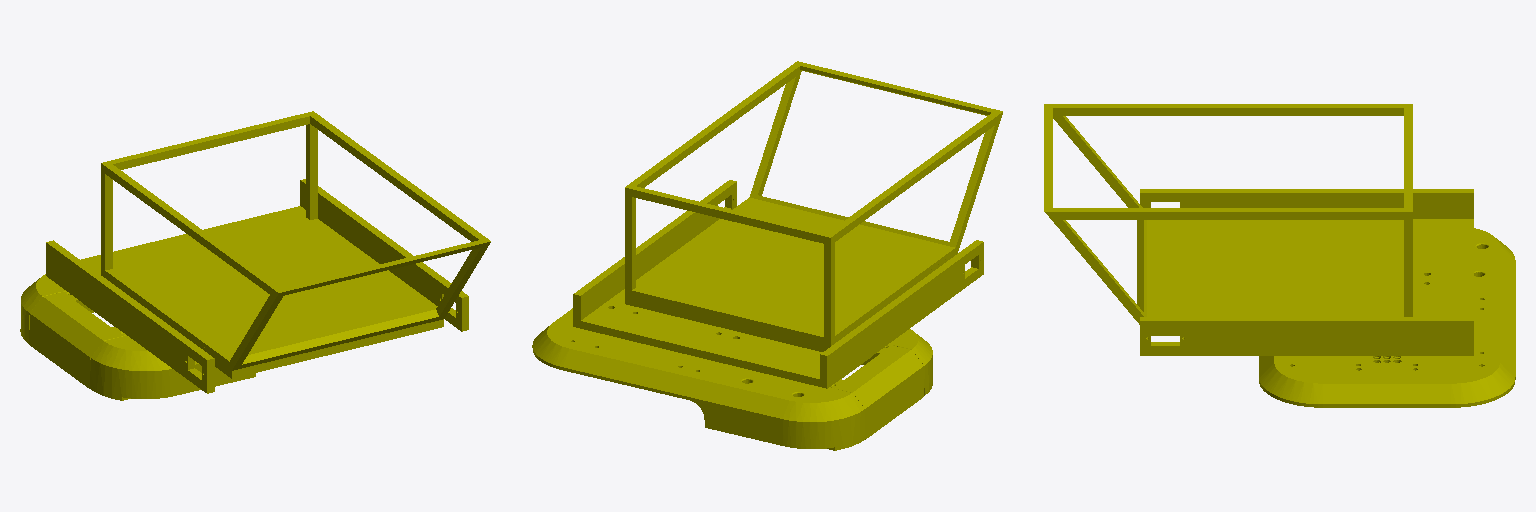
The robot description file, URDF, robot "myAGV":
<?xml version="1.0"?>
<robot xmlns:xacro="http://www.ros.org/wiki/xacro" name="myAGV">

    <!-- <link name="base_footprint">
        <visual>
        <geometry>
            <mesh filename="package://myagv_urdf/urdf/myagv_all.dae" scale="1 1 1"/>
        </geometry>
        <origin xyz="0.0 0.0 0.0" rpy="0.0 0.0 0.0"/>
        <material name="black">
            <color rgba="0.7 0.5 0.0 0.5"/>
        </material>
        </visual>   
    </link> -->

    <link name="base_footprint">
        <visual>
        <geometry>
            <mesh filename="package://oioi/urdf/myagv/myagv_base.dae" scale="1 1 1"/>
        </geometry>
        <origin xyz="0.0 0.0 0.0" rpy="0.0 0.0 0.0"/>
        <material name="black">
            <color rgba="0.7 0.7 0.0 1.0"/>
        </material>
        </visual>   
    </link>

    <joint name="base_up" type="continuous">
        <origin xyz="0.0 0.0 0.0" rpy="0 0 0"/>
        <parent link="base_footprint"/>
        <child link="base_up"/>
        <axis xyz="0 0 1"/>
    </joint>

    <link name="base_up">
        <visual>
        <geometry>
            <mesh filename="package://oioi/urdf/myagv/myagv_up.dae" scale="1 1 1"/>
        </geometry>
        <origin xyz="0.0 0.0 0.0" rpy="0.0 0.0 0.0"/>
        <material name="black">
            <color rgba="0.7 0.7 0.0 1.0"/>
        </material>
        </visual>   
    </link>
    
    <link name="agv_b">
        <visual>
        <geometry>
            <mesh filename="package://oioi/urdf/myagv/agv_b.STL" scale="1 1 1"/>
        </geometry>
        <origin xyz="0.0 0.0 0.0" rpy="0.0 0.0 0.0"/>
        <material name="black">
            <color rgba="0.7 0.7 0.0 1.0"/>
        </material>
        </visual>   
    </link>
    
    <joint name="agv_basket" type="fixed">
        <origin xyz="0.0 -0.025 -0.113" rpy="-1.5708 0 -1.5708"/>
        <parent link="base_up"/>
        <child link="agv_b"/>
        <axis xyz="0 0 0"/>
    </joint>

</robot>

--- What the picture shows (computed from the rendered views, not written in the file) ---
The picture shows the robot from 3 angles, left to right: view 1: azimuth 30°, elevation 25°; view 2: azimuth 150°, elevation 25°; view 3: azimuth 270°, elevation 25°; orthographic projection.
Model myAGV with 3 links and 2 joints (1 continuous, 1 fixed), rooted at base_footprint, posed every joint at zero.
Links seen in each view (by area): view 1: agv_b, base_up; view 2: agv_b, base_up; view 3: agv_b, base_up.
Boxes of the visible links, box(x1,y1,x2,y2) form: agv_b: box(46, 111, 490, 393); base_up: box(20, 274, 255, 400); agv_b: box(573, 61, 1002, 388); base_up: box(532, 308, 932, 450); agv_b: box(1044, 104, 1473, 355); base_up: box(1259, 228, 1515, 407).
Size in the robot's own frame: 0.3114 by 0.3669 by 0.1626 metres.
Meshes: 3 distinct files referenced, 2 mesh visuals loaded (1 binary STL, 1 Collada DAE); not drawn: 1 (reference not matched to a file when rendering).